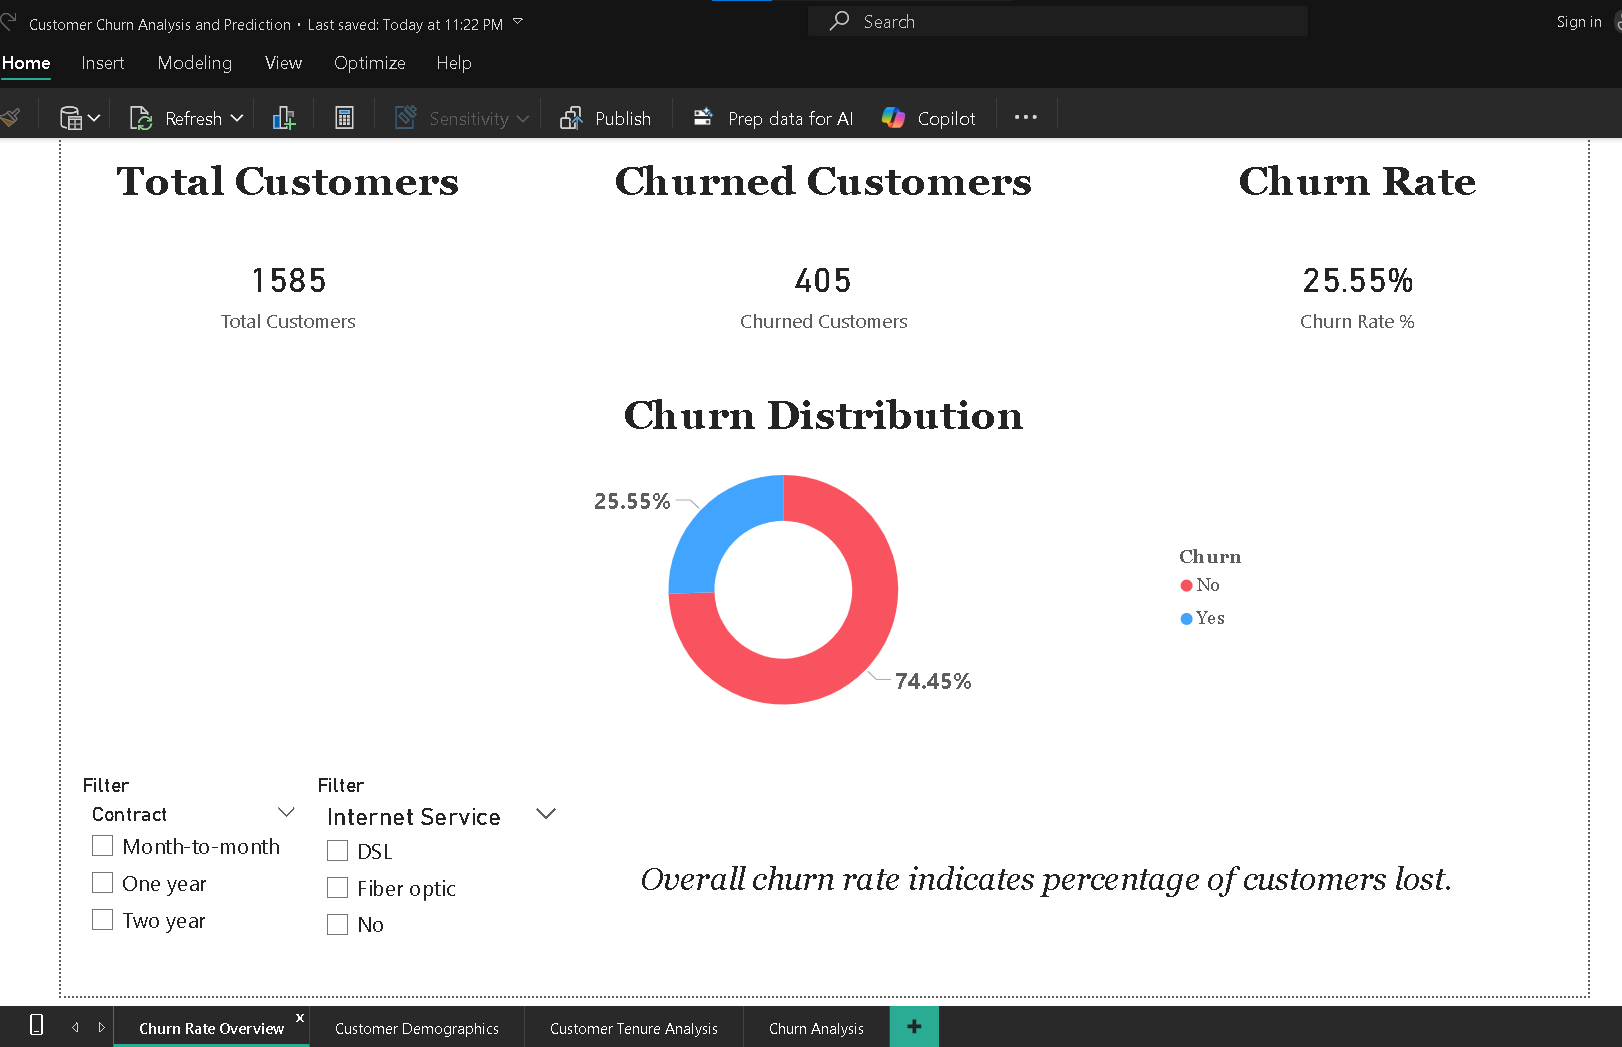

What the dashboard file says about the page in this screenshot:
{"tool":"powerbi","page":{"name":"Churn Rate Overview","canvas":[1280,720],"ordinal":0},"visuals":[{"type":"card","title":"Churn Rate","fields":{"Values":["Telco_Customer_Churn_Dataset.Churn Rate %"]},"box":[920.9,16.3,334.9,184.9],"z":0},{"type":"card","title":"Churned Customers","fields":{"Values":["Telco_Customer_Churn_Dataset.Churned Customers"]},"box":[408.2,16.5,463.5,184.7],"z":1000},{"type":"card","title":"Total Customers","fields":{"Values":["Telco_Customer_Churn_Dataset.Total Customers"]},"box":[18.6,16.3,344.2,184.9],"z":2000},{"type":"donutChart","title":"Churn Distribution","fields":{"Category":["Telco_Customer_Churn_Dataset.Churn"],"Y":["CountNonNull(Telco_Customer_Churn_Dataset.Customer ID)"]},"box":[269.4,212.9,741.2,294.1],"z":3000},{"type":"slicer","title":"Filter","fields":{"Values":["Telco_Customer_Churn_Dataset.Contract"]},"box":[12.8,532.6,196.5,164],"z":4000},{"type":"slicer","title":"Filter","fields":{"Values":["Telco_Customer_Churn_Dataset.Internet Service"]},"box":[209.3,532.6,218.6,164],"z":5000},{"type":"textbox","box":[409.3,601.2,834.9,58.1],"z":6000}]}

Visuals, with their boxes on the page's 1280x720 design canvas (x1, y1, x2, y2). These are canvas units, not pixel positions in the 1622x1047 screenshot, which may show the page scaled, cropped or inside an application window:
"Churn Rate" card: box=[921, 16, 1256, 201]
"Churned Customers" card: box=[408, 16, 872, 201]
"Total Customers" card: box=[19, 16, 363, 201]
"Churn Distribution" donutChart: box=[269, 213, 1011, 507]
"Filter" slicer: box=[13, 533, 209, 697]
"Filter" slicer: box=[209, 533, 428, 697]
textbox: box=[409, 601, 1244, 659]
